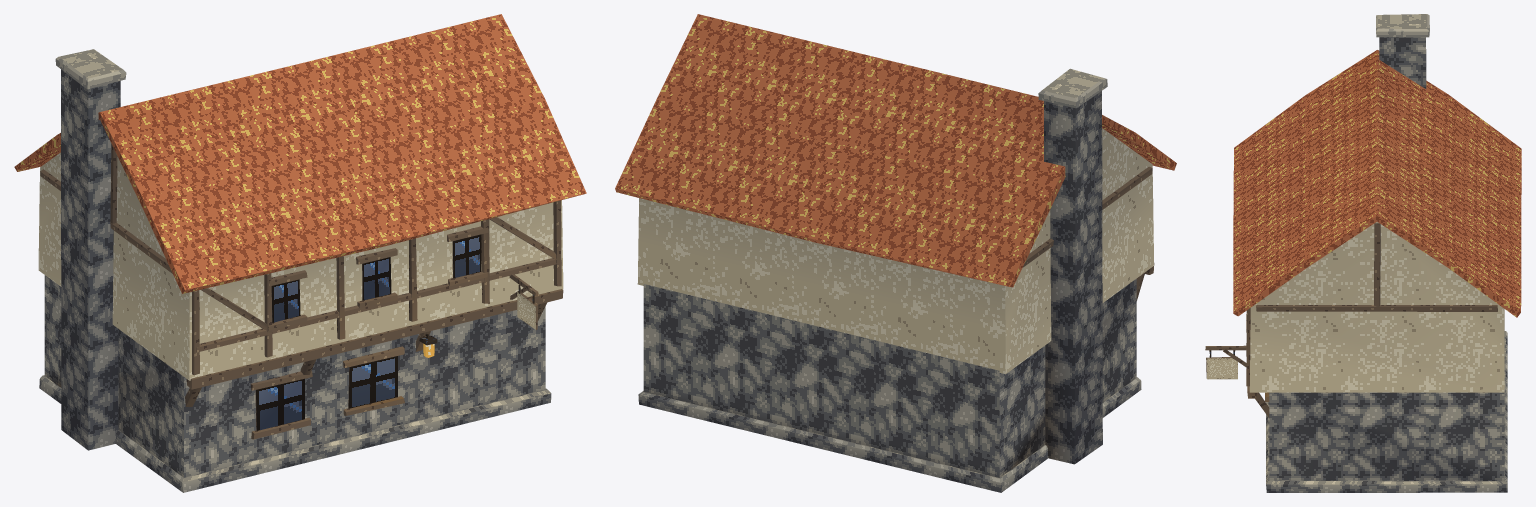
The model's file is vlg.tavern__doorway.glb.
3 views of the same model, side by side, from view 1: azimuth 30°, elevation 25°; view 2: azimuth 150°, elevation 25°; view 3: azimuth 270°, elevation 25° (orthographic). The views are drawn at different scales.
Visible parts, largest first — view 1: kit_roof, kit_walls, kit_stonework, kit_frame, kit_fittings; view 2: kit_walls, kit_roof, kit_stonework, kit_frame; view 3: kit_walls, kit_roof, kit_stonework, kit_frame, kit_fittings.
Boxes of the visible parts, x1,y1,x2,y2 form: kit_roof: (14, 14, 586, 293); kit_walls: (38, 152, 563, 477); kit_stonework: (39, 49, 551, 492); kit_frame: (40, 144, 563, 407); kit_fittings: (250, 226, 538, 439); kit_walls: (637, 128, 1154, 477); kit_roof: (615, 14, 1176, 287); kit_stonework: (638, 68, 1141, 492); kit_frame: (1022, 166, 1154, 300); kit_walls: (1249, 222, 1504, 481); kit_roof: (1233, 50, 1521, 317); kit_stonework: (1266, 14, 1507, 492); kit_frame: (1246, 223, 1497, 417); kit_fittings: (1205, 314, 1269, 401).
Size of the model in its own units: 10.35 by 8.87 by 8.06.
9 materials, 9 textured.
